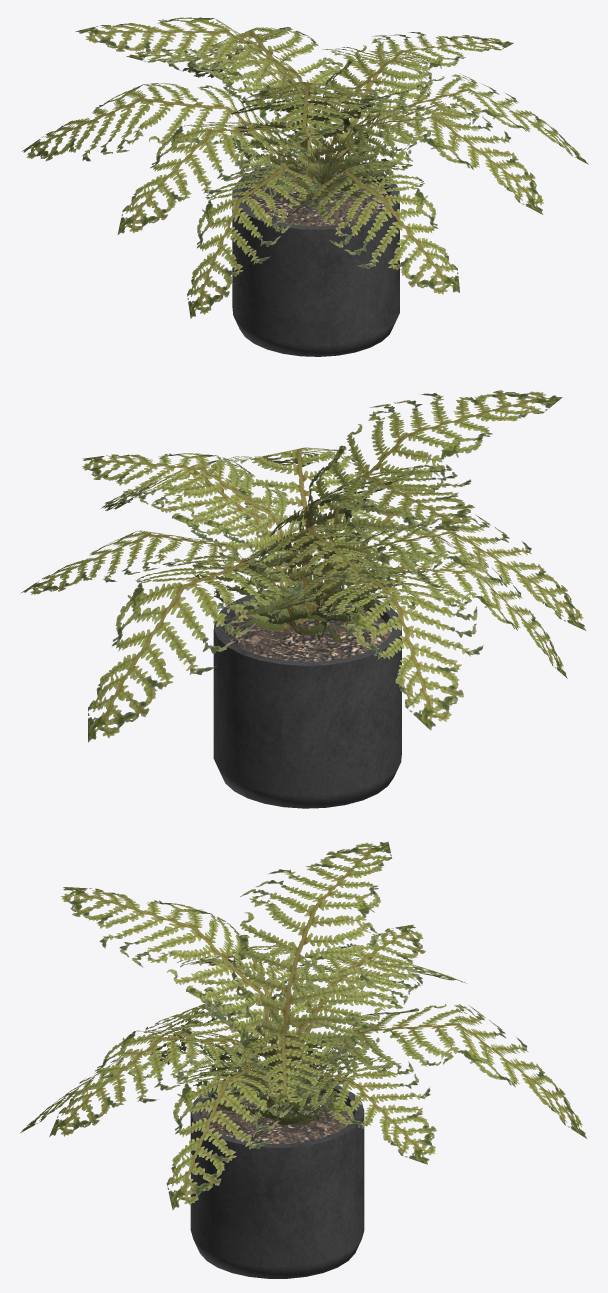
File: SM_NYC2_Flower_01.FBX
3 renders of one model, top to bottom at view 1: azimuth 30°, elevation 25°; view 2: azimuth 150°, elevation 25°; view 3: azimuth 270°, elevation 25°, orthographic. The views are drawn at different scales.
Parts seen in each view (by area): view 1: SM_NYC2_Flower_01_LOD0; view 2: SM_NYC2_Flower_01_LOD0; view 3: SM_NYC2_Flower_01_LOD0.
Part boxes in pixels (x1,y1,x2,y2): SM_NYC2_Flower_01_LOD0: (22, 17, 588, 356); SM_NYC2_Flower_01_LOD0: (20, 390, 586, 808); SM_NYC2_Flower_01_LOD0: (20, 841, 587, 1278).
Size of what is drawn, in the model's own units: 86.08 by 92.01 by 55.23.
